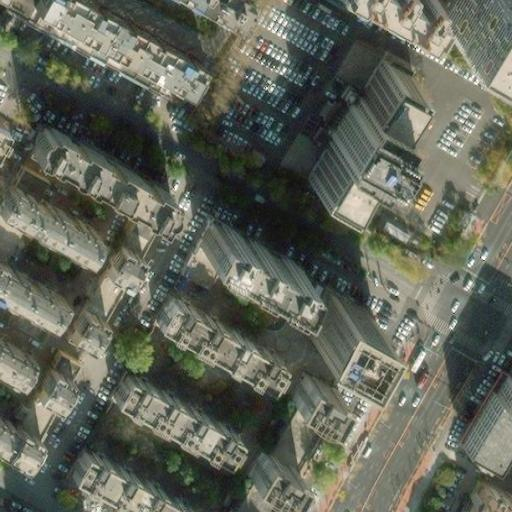building: (1, 0, 187, 105), (22, 121, 169, 224), (149, 291, 284, 388), (316, 62, 410, 197), (113, 370, 235, 456), (194, 219, 304, 301), (70, 445, 196, 512), (455, 370, 512, 464), (311, 297, 383, 366), (0, 265, 64, 326), (440, 0, 512, 53), (258, 400, 312, 464), (241, 448, 292, 495), (98, 241, 147, 289), (287, 374, 337, 420), (25, 366, 72, 413), (75, 270, 118, 321), (62, 310, 106, 350), (222, 476, 268, 512), (8, 396, 47, 438), (0, 421, 34, 463), (460, 485, 512, 511), (305, 293, 335, 338), (0, 341, 30, 381), (10, 164, 42, 195), (43, 350, 73, 378), (0, 120, 17, 164)
